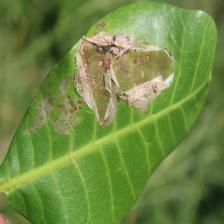leaf miner: (17, 30, 185, 141)
